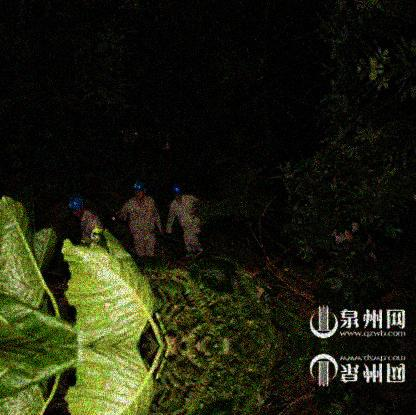helmet: (65, 192, 86, 218), (168, 181, 184, 201), (132, 180, 145, 199)
